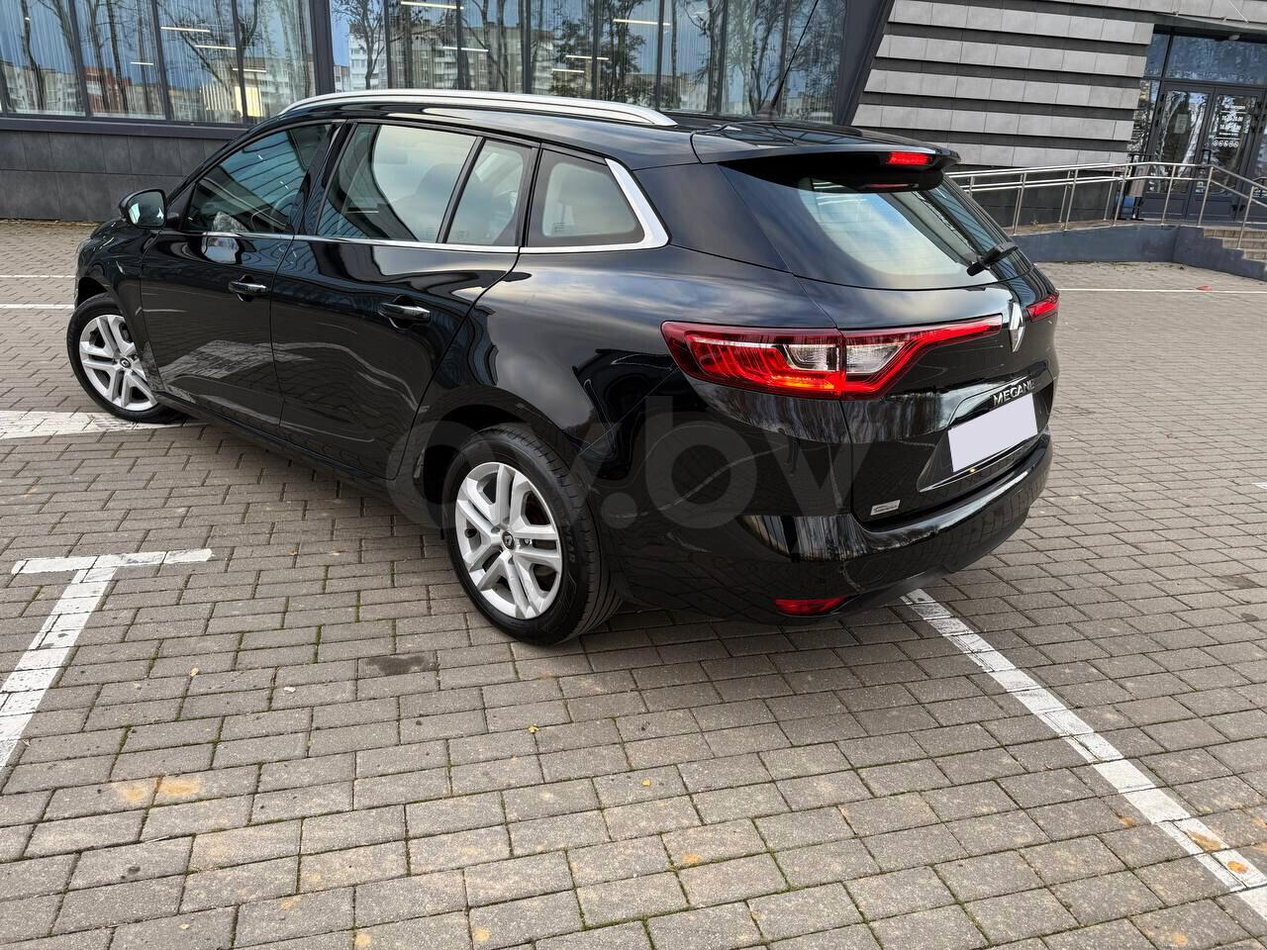Megane_2016-2020: (66, 84, 1065, 656)
